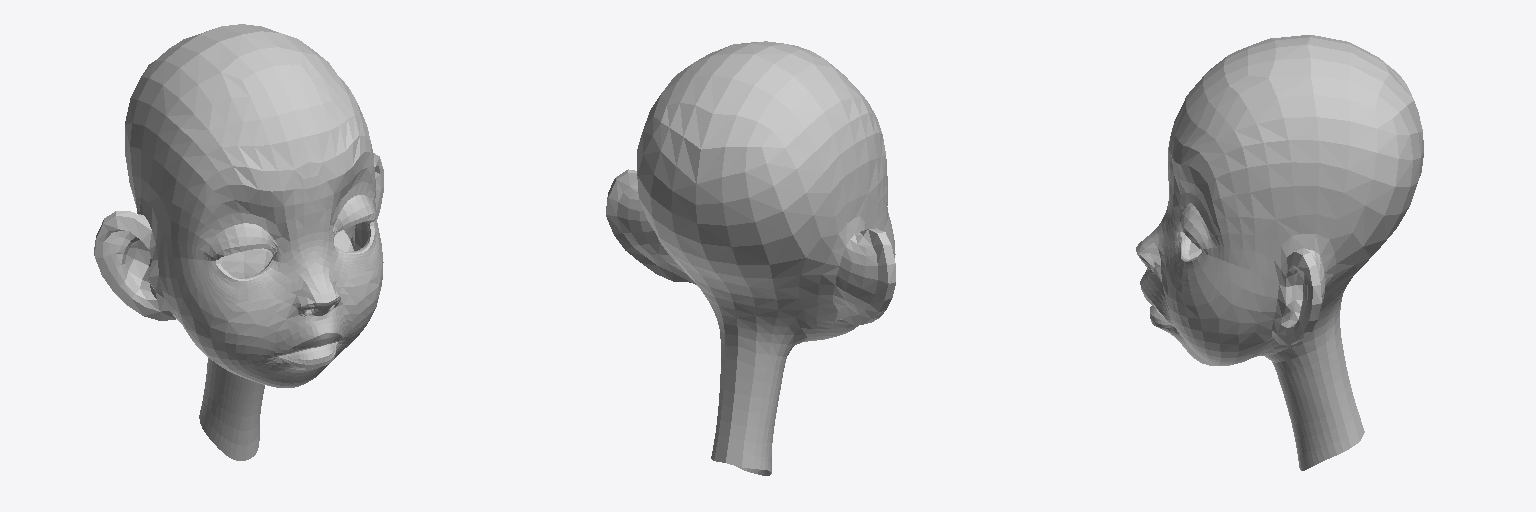
File: outterBrowRaiser.obj
3 views of the same model, side by side, from view 1: azimuth 30°, elevation 25°; view 2: azimuth 150°, elevation 25°; view 3: azimuth 270°, elevation 25° (orthographic).
Visible parts, largest first — view 1: ZBrushPolyMesh3D; view 2: ZBrushPolyMesh3D; view 3: ZBrushPolyMesh3D.
Part boxes in pixels (bbox=[...]): ZBrushPolyMesh3D: bbox=[94, 24, 383, 460]; ZBrushPolyMesh3D: bbox=[606, 41, 895, 475]; ZBrushPolyMesh3D: bbox=[1136, 35, 1423, 470].
Bounding box in the file's own units: 5.74 × 8.03 × 4.96.